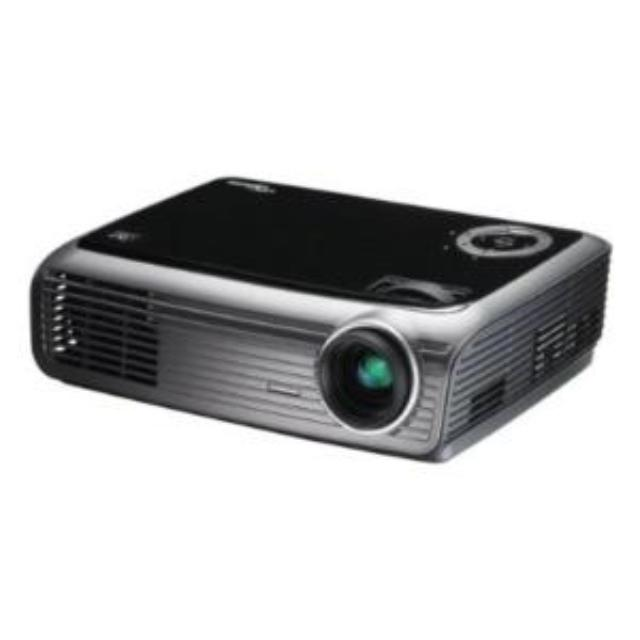Projector: (31, 172, 614, 466)
